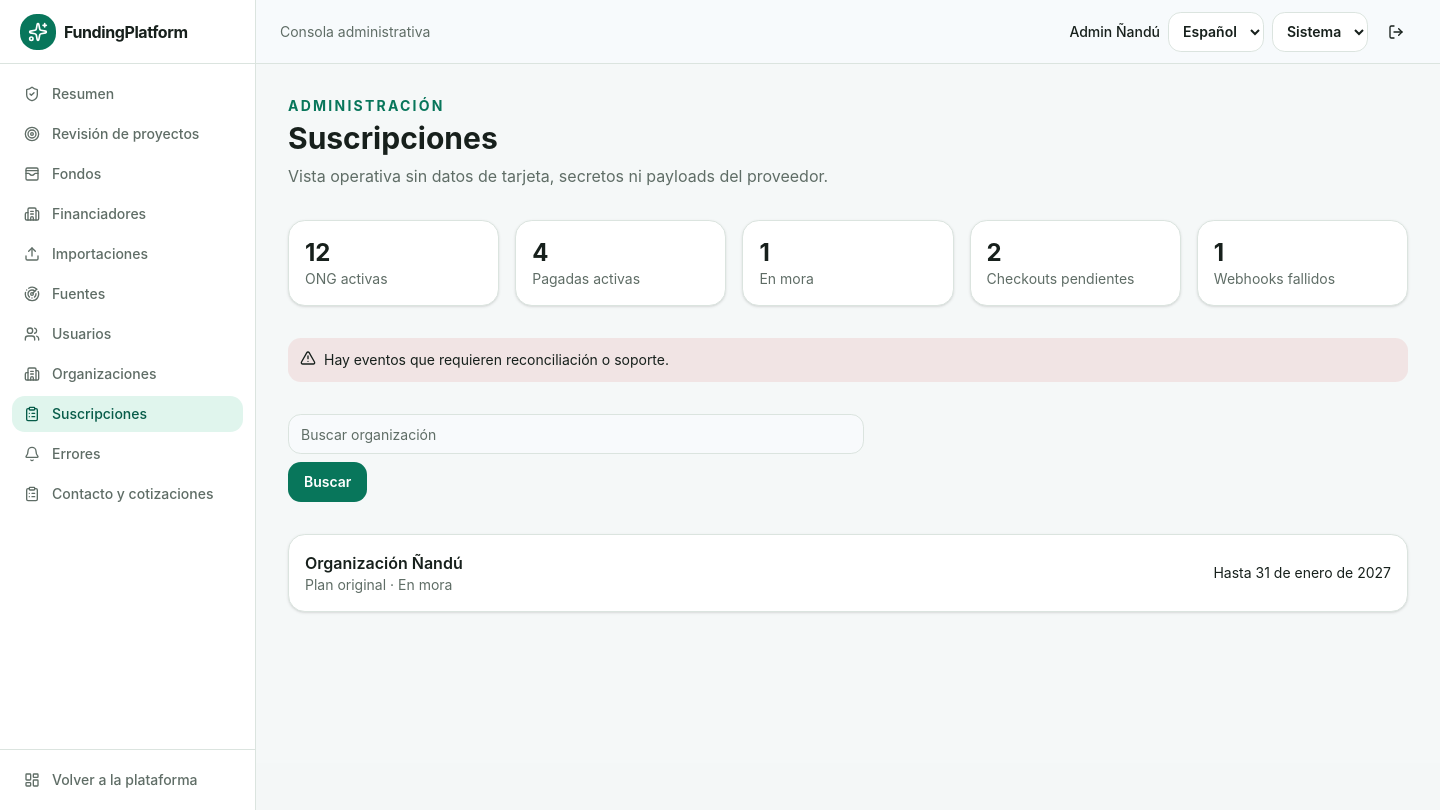
Test case: I18N05D operational read views › keeps billing read-only with translated statuses and unsent search
This screenshot has width=1440, height=810.
Check: the text "Hay eventos que requieren reconciliación o soporte." is shown, box [288, 338, 1408, 382]
Type "Organización Ñandú" into the field with placeholder "Buscar organización". click: (576, 434)
box: [288, 414, 864, 454]
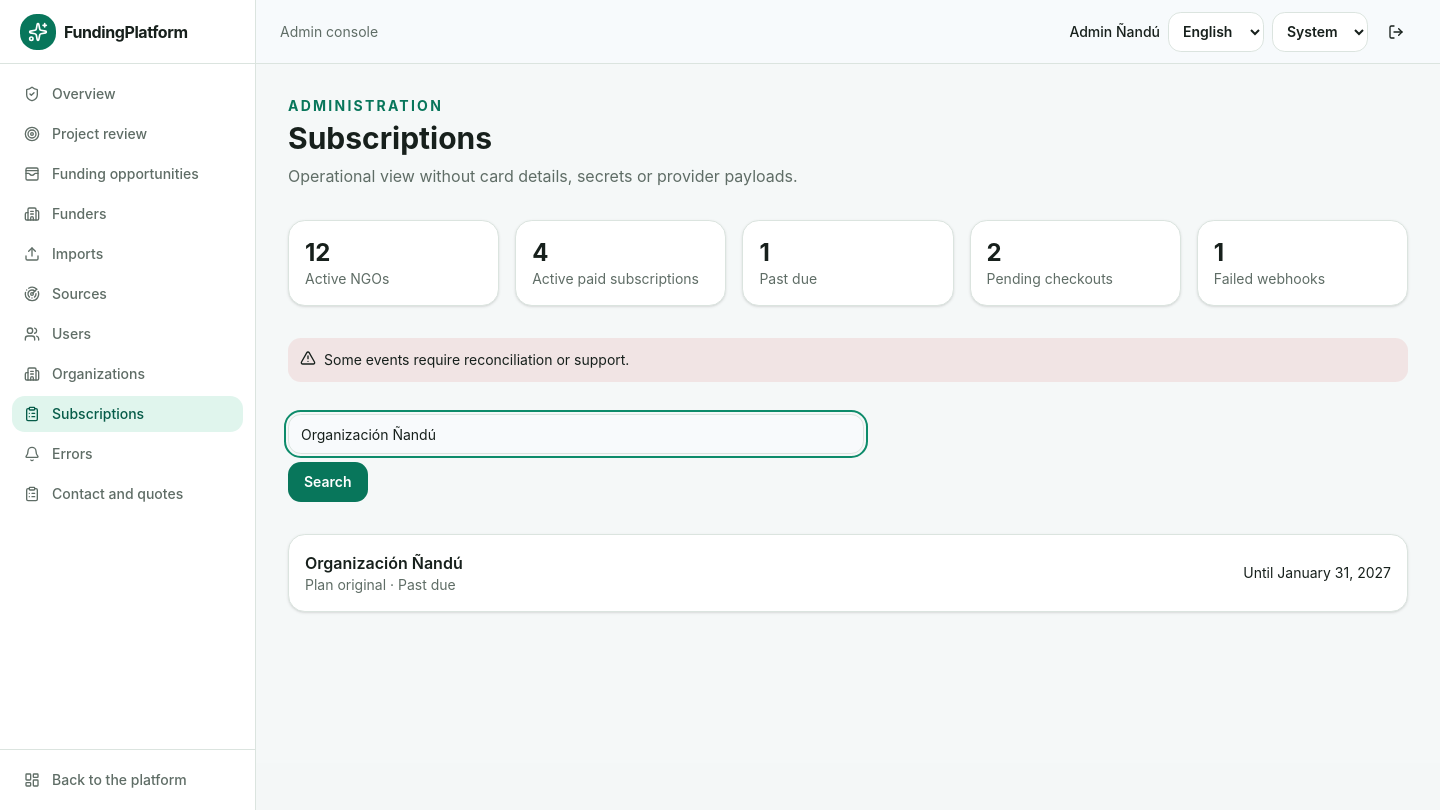
Check: the text "Plan original · Past due" is shown, box [305, 575, 463, 595]
